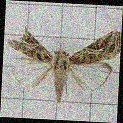Spodoptera litura: (6, 28, 119, 104)
